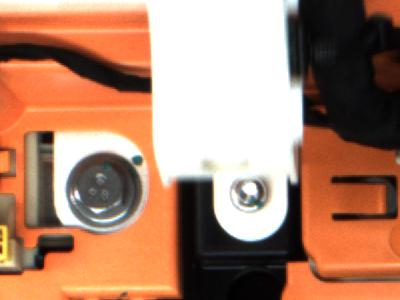nut_b: (60, 150, 149, 227)
